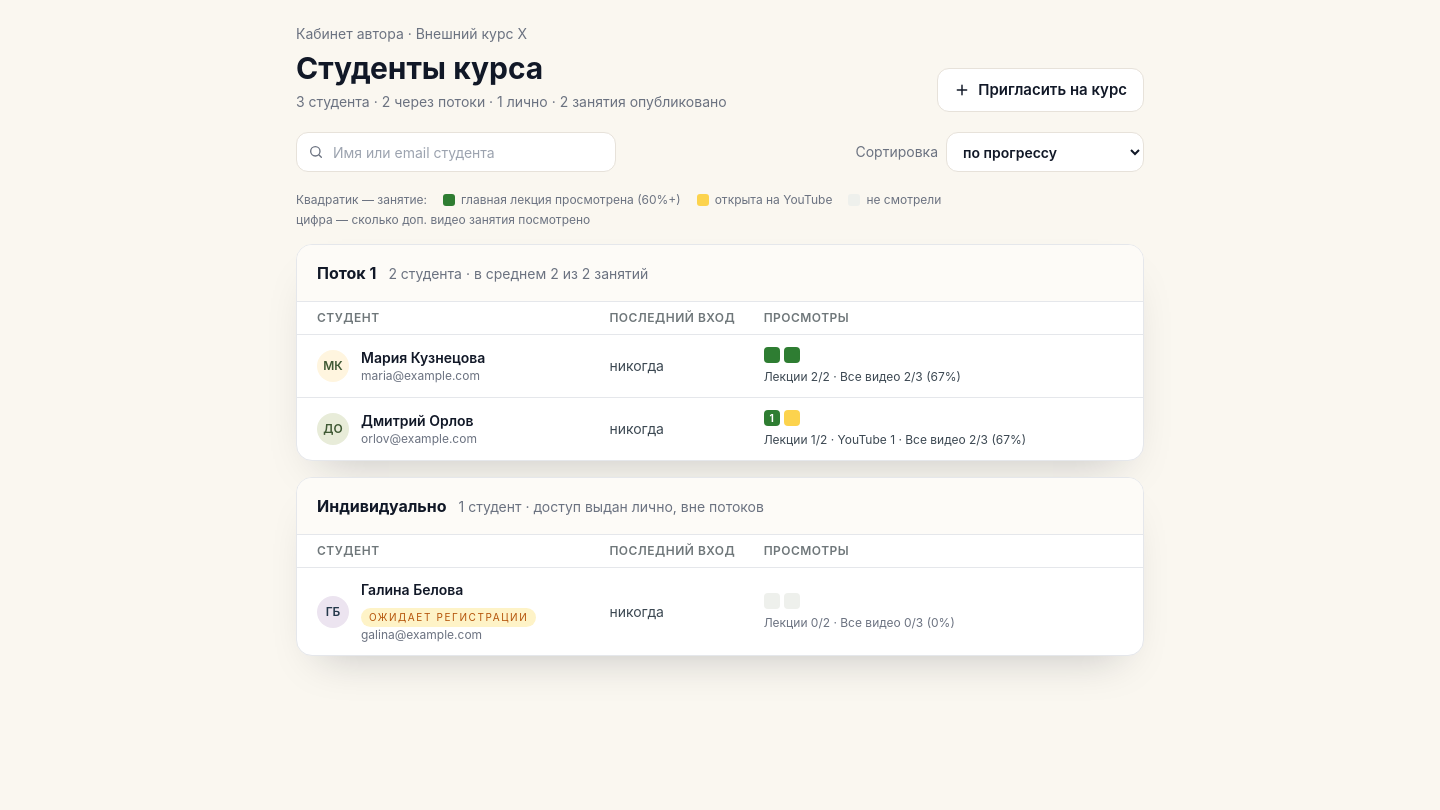
Test case: CourseStudents › кнопка «Пригласить на курс» открывает модалку и зовёт bulkEnrollStudents
Expected: the text "Мария Кузнецова" is shown, left=361, top=348, right=485, bottom=368
Click the button "Пригласить на курс": {"x": 1041, "y": 90} left=937, top=68, right=1144, bottom=112
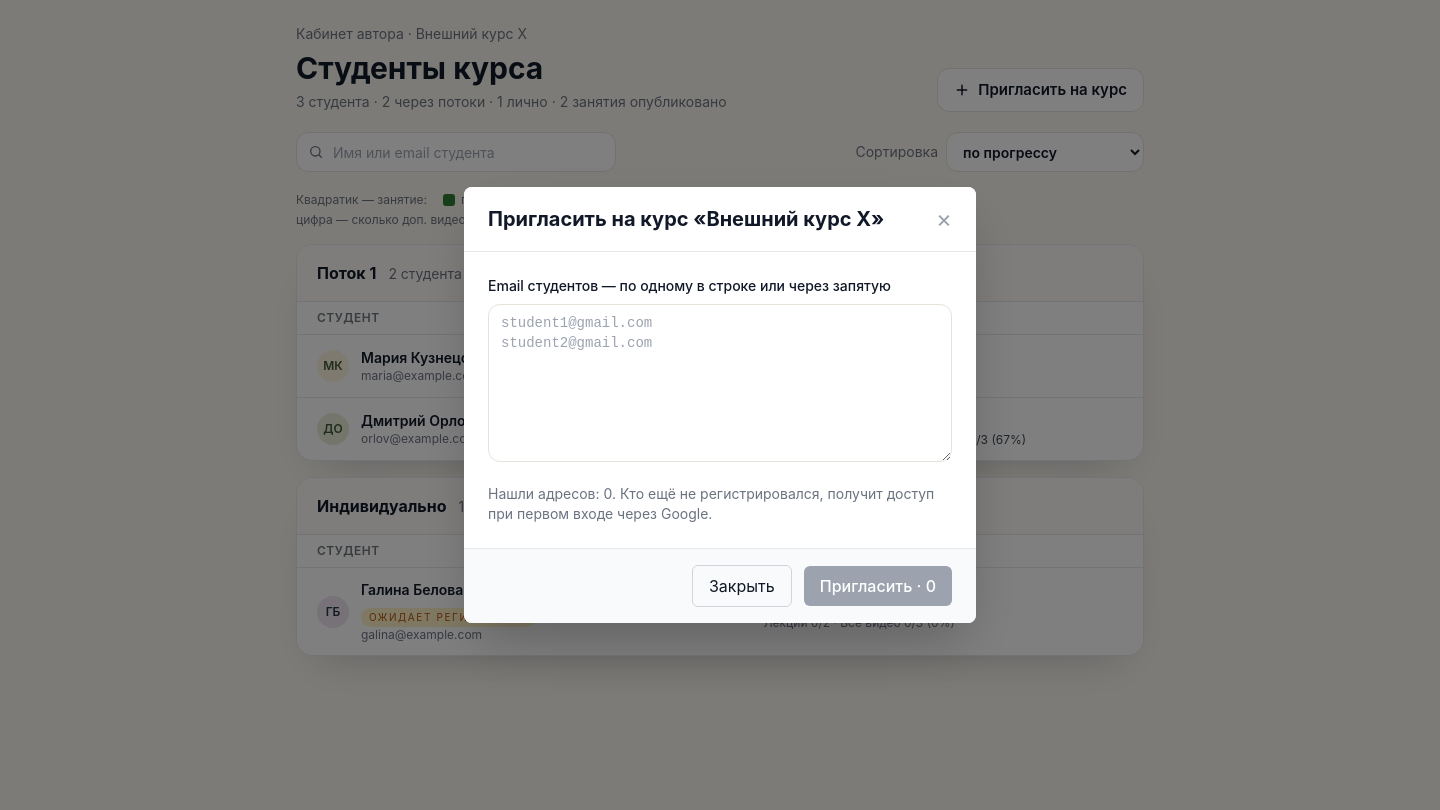
In the text box: {"x": 720, "y": 383} left=488, top=304, right=952, bottom=462, type "new1@example.com, new2@example.com"
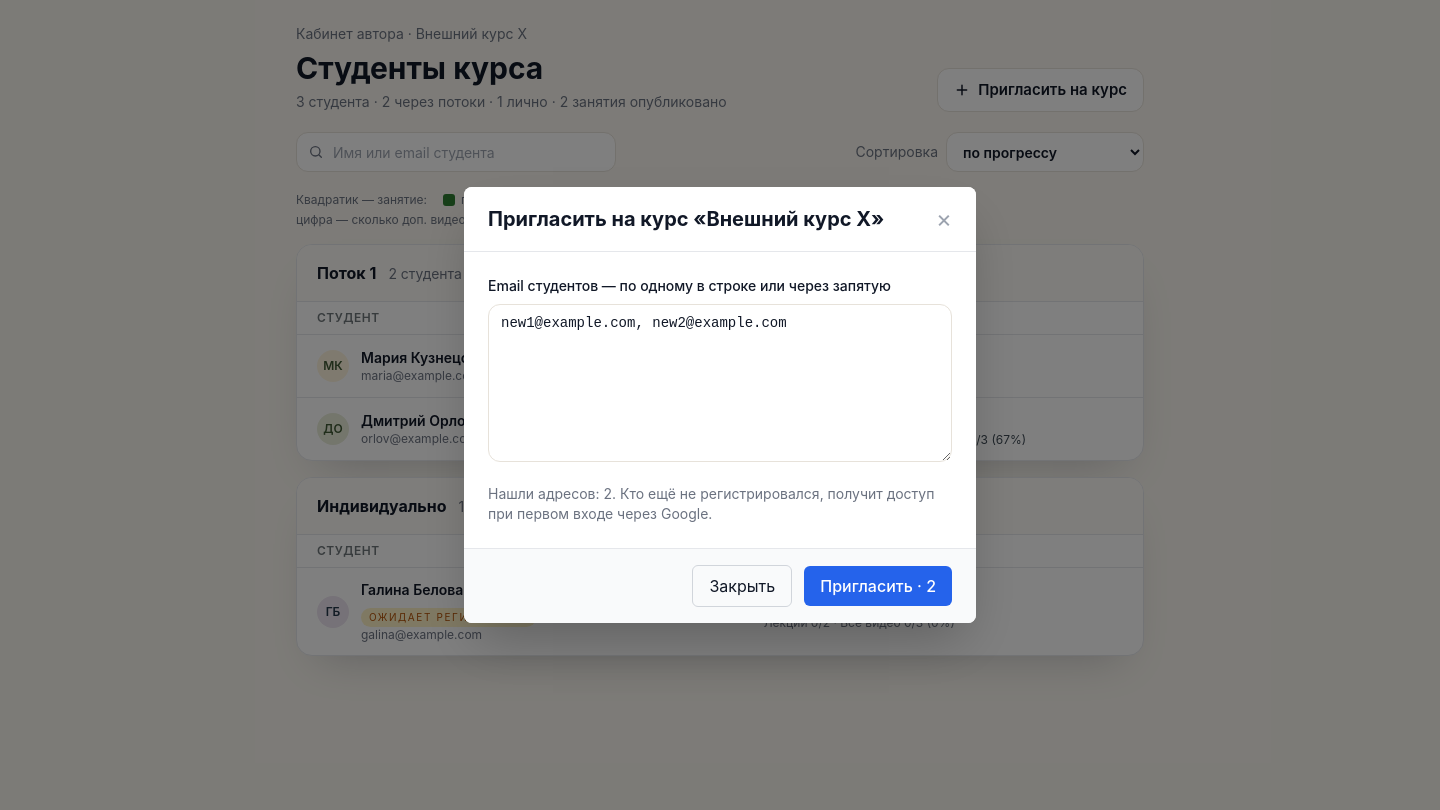
Click the button "Пригласить · 2": {"x": 878, "y": 586} left=804, top=566, right=952, bottom=606
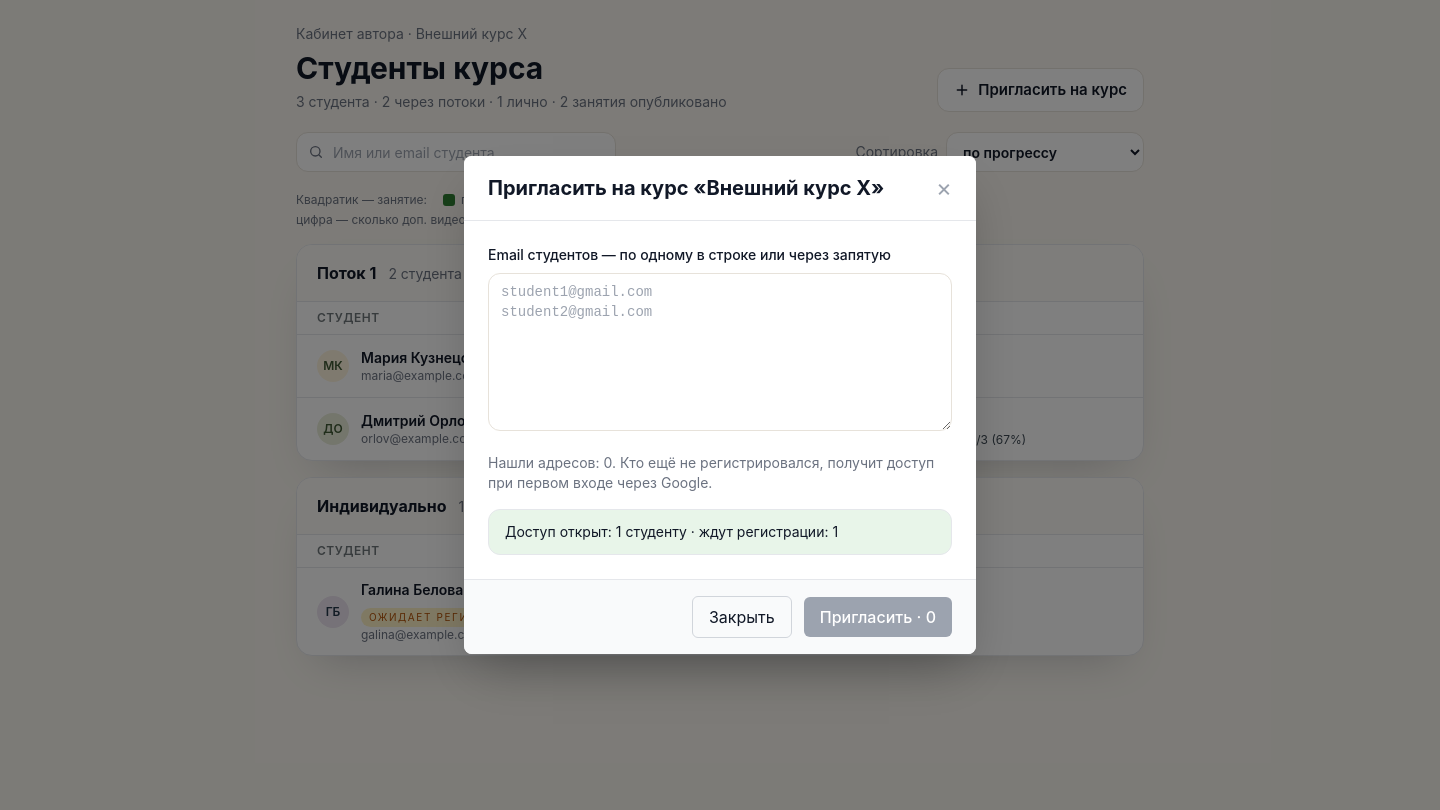
Expected: the text "Доступ открыт: 1 студенту · ждут регистрации: 1" is shown, left=488, top=509, right=952, bottom=555
